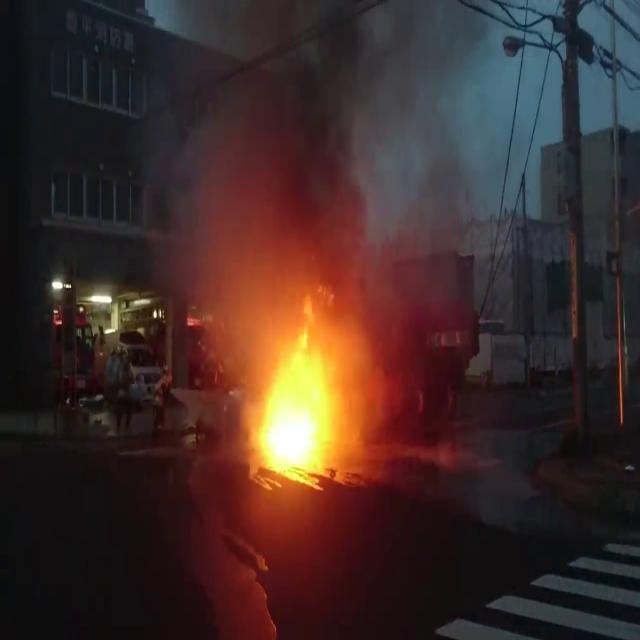Fire: (260, 282, 336, 468), (334, 343, 364, 446)
Smoke: (152, 0, 360, 281), (360, 3, 492, 254), (204, 286, 258, 404), (364, 298, 404, 446)
